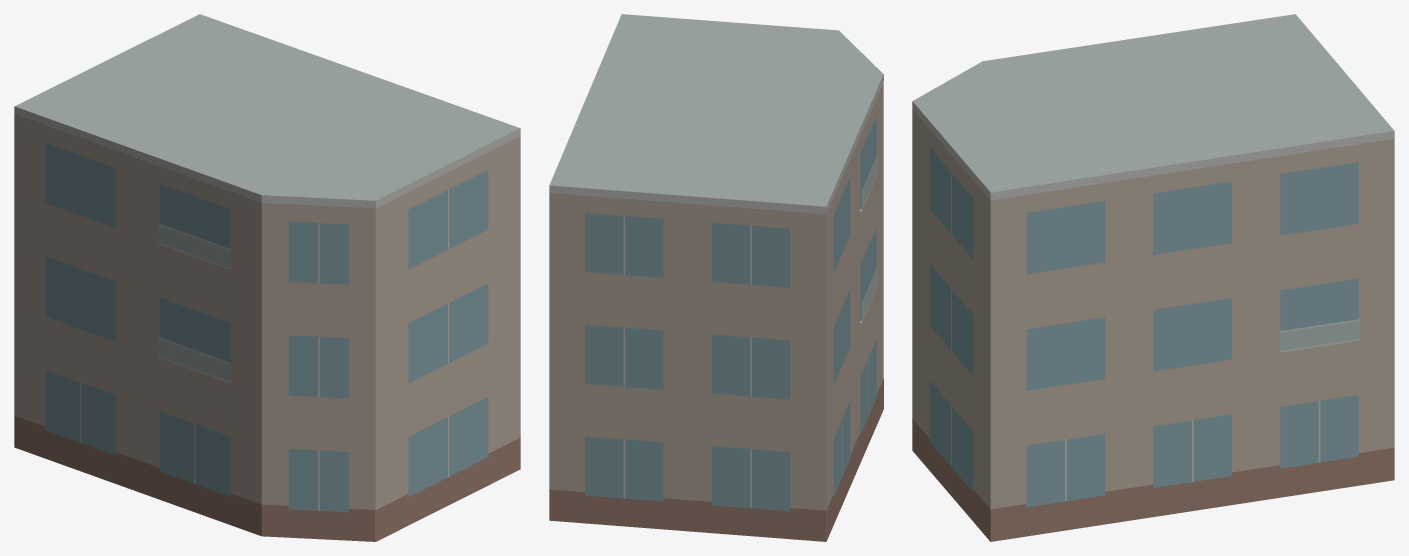
File: survey-upis-32672533.glb
The picture shows the model from 3 angles, left to right: view 1: azimuth 30°, elevation 25°; view 2: azimuth 150°, elevation 25°; view 3: azimuth 270°, elevation 25°; orthographic projection. The views are drawn at different scales.
Visible parts, largest first — view 1: survey-upis-32672533.tmp; view 2: survey-upis-32672533.tmp; view 3: survey-upis-32672533.tmp.
Part boxes in pixels (box(x1,y1,x2,y2)): survey-upis-32672533.tmp: box(14, 14, 520, 541); survey-upis-32672533.tmp: box(549, 14, 883, 541); survey-upis-32672533.tmp: box(912, 14, 1394, 541).
Size of the model in its own units: 11.85 by 10.8 by 13.52.
